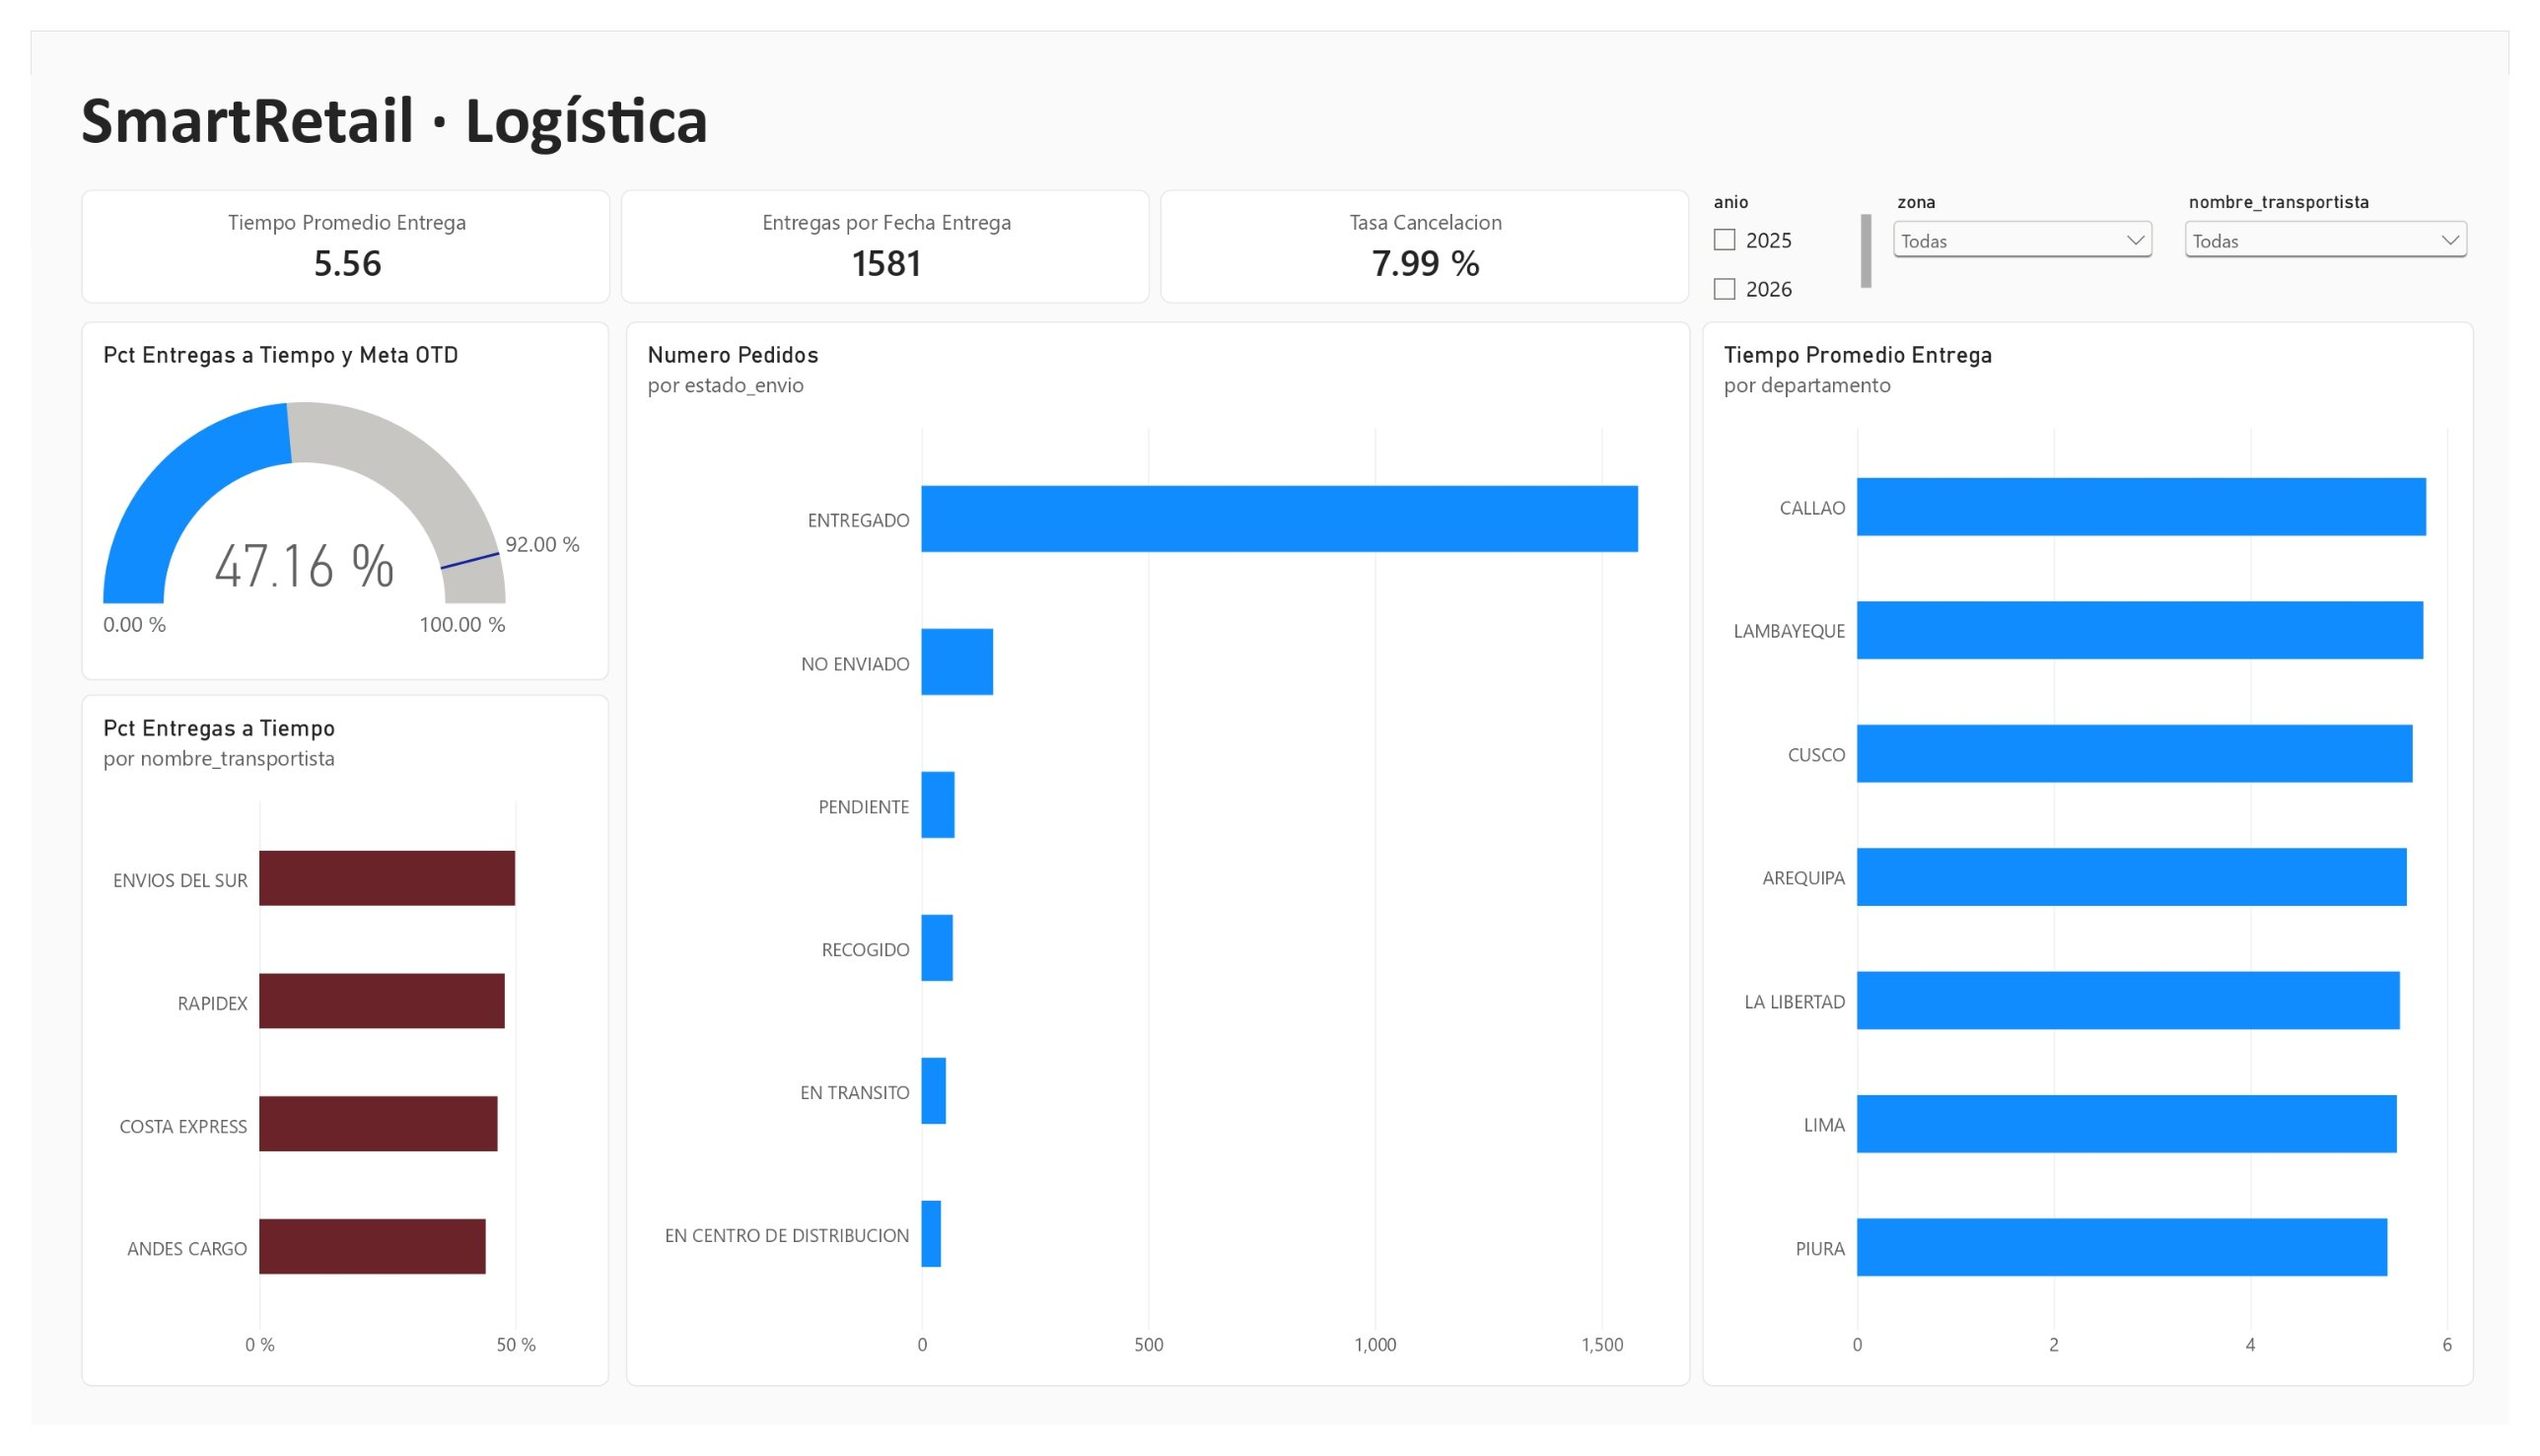

This screenshot's page, from the dashboard's own definition file:
{"tool":"powerbi","page":{"name":"Logistica","canvas":[1920,1080],"ordinal":2},"visuals":[{"type":"textbox","box":[39.4,34.7,732.4,75.6],"z":0},{"type":"cardVisual","fields":{"Data":["Fact_Ventas_Envios.Tiempo Promedio Entrega","Fact_Ventas_Envios.Entregas por Fecha Entrega","Fact_Ventas_Envios.Tasa Cancelacion"]},"box":[39.4,122.9,1247.4,88.2],"z":1},{"type":"gauge","fields":{"TargetValue":["Fact_Ventas_Envios.Meta OTD"],"Y":["Fact_Ventas_Envios.Pct Entregas a Tiempo"]},"box":[39.2,224.6,408.4,278.8],"z":2},{"type":"clusteredBarChart","fields":{"Category":["Dim_Transportista.nombre_transportista"],"Y":["Fact_Ventas_Envios.Pct Entregas a Tiempo"]},"box":[39.2,513.9,408.4,536.5],"z":3},{"type":"clusteredBarChart","fields":{"Category":["Dim_Estado.estado_envio"],"Y":["Fact_Ventas_Envios.Numero Pedidos"]},"box":[461.2,224.6,824.4,825.9],"z":4},{"type":"clusteredBarChart","fields":{"Category":["Dim_Ubicacion.departamento"],"Y":["Fact_Ventas_Envios.Tiempo Promedio Entrega"]},"box":[1294.6,224.6,598.3,825.9],"z":5},{"type":"slicer","fields":{"Values":["Dim_Tiempo.anio"]},"box":[1296.1,123.6,129.6,87.4],"z":6},{"type":"slicer","fields":{"Values":["Dim_Ubicacion.zona"]},"box":[1437.7,123.6,211,87.4],"z":7},{"type":"slicer","fields":{"Values":["Dim_Transportista.nombre_transportista"]},"box":[1663.8,123.6,229.1,87.4],"z":8}]}

Visuals, with their boxes in screenshot pixels (x1, y1, x2, y2), scaled from the page's 1920x1080 canvas onto the 2540x1456 screenshot:
textbox: bbox=[52, 46, 1021, 149]
cardVisual - Fact_Ventas_Envios.Tiempo Promedio Entrega x Fact_Ventas_Envios.Entregas por Fecha Entrega: bbox=[52, 166, 1702, 285]
gauge - Fact_Ventas_Envios.Meta OTD x Fact_Ventas_Envios.Pct Entregas a Tiempo: bbox=[52, 303, 593, 678]
clusteredBarChart - Dim_Transportista.nombre_transportista x Fact_Ventas_Envios.Pct Entregas a Tiempo: bbox=[52, 693, 593, 1417]
clusteredBarChart - Dim_Estado.estado_envio x Fact_Ventas_Envios.Numero Pedidos: bbox=[610, 303, 1701, 1417]
clusteredBarChart - Dim_Ubicacion.departamento x Fact_Ventas_Envios.Tiempo Promedio Entrega: bbox=[1713, 303, 2505, 1417]
slicer - Dim_Tiempo.anio: bbox=[1715, 167, 1886, 285]
slicer - Dim_Ubicacion.zona: bbox=[1902, 167, 2181, 285]
slicer - Dim_Transportista.nombre_transportista: bbox=[2201, 167, 2505, 285]
